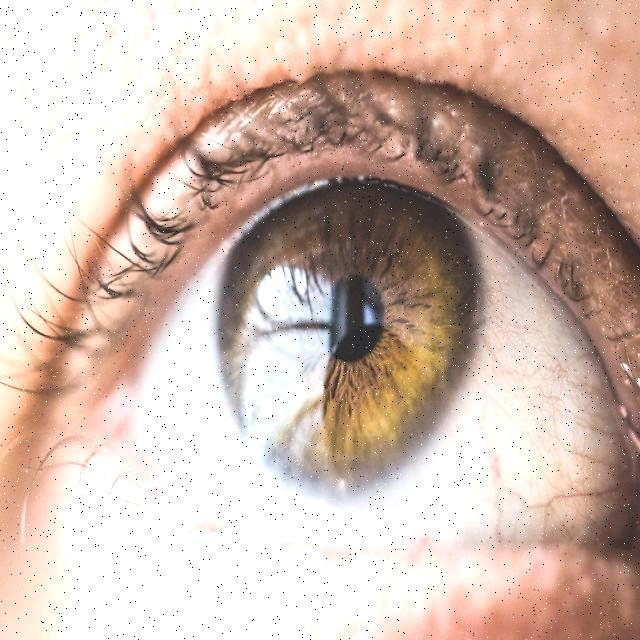Normal: (0, 2, 638, 636)
